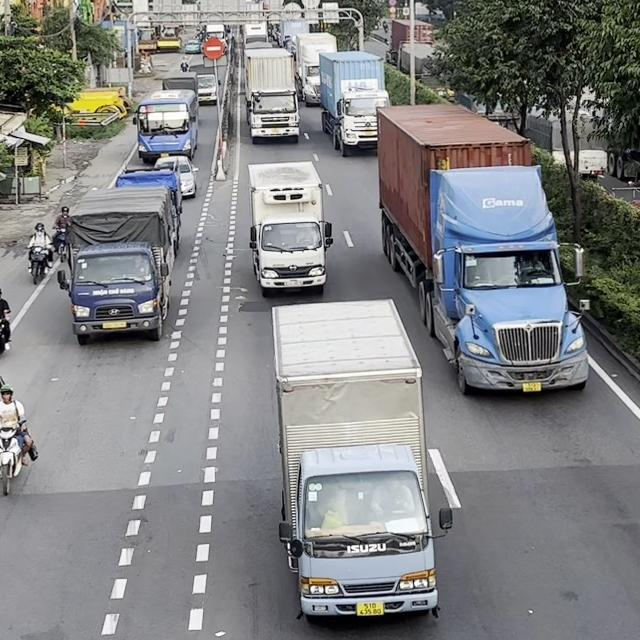bus: (133, 88, 199, 163)
car: (153, 155, 199, 198)
motorcycle: (0, 417, 29, 496), (27, 245, 50, 284), (0, 308, 11, 356), (52, 227, 67, 261), (180, 61, 188, 72)
truck: (376, 103, 590, 395), (270, 298, 461, 620), (56, 184, 181, 345), (247, 160, 333, 297), (318, 50, 390, 157), (113, 166, 182, 254), (243, 47, 300, 144), (291, 31, 337, 106), (190, 59, 218, 105), (161, 74, 198, 102), (242, 22, 268, 45)
